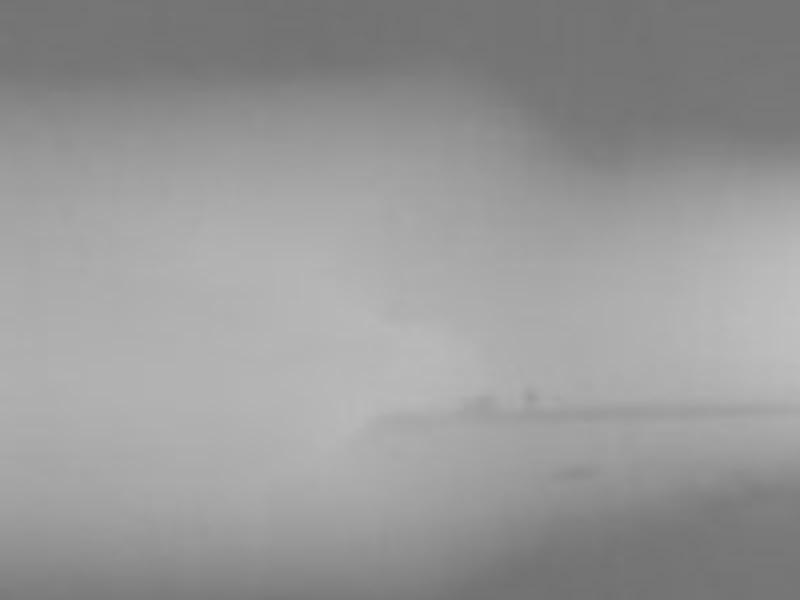defect: (463, 394, 496, 421), (525, 383, 541, 404)
